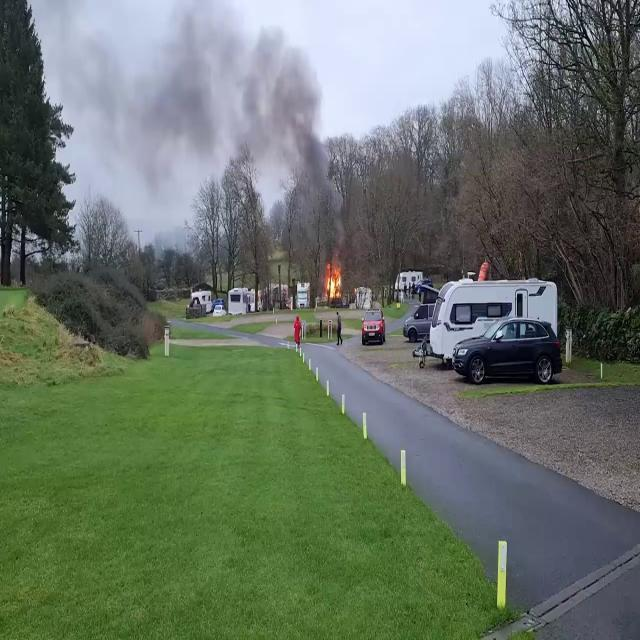Fire: (324, 257, 344, 301)
Smoke: (130, 0, 348, 252)
